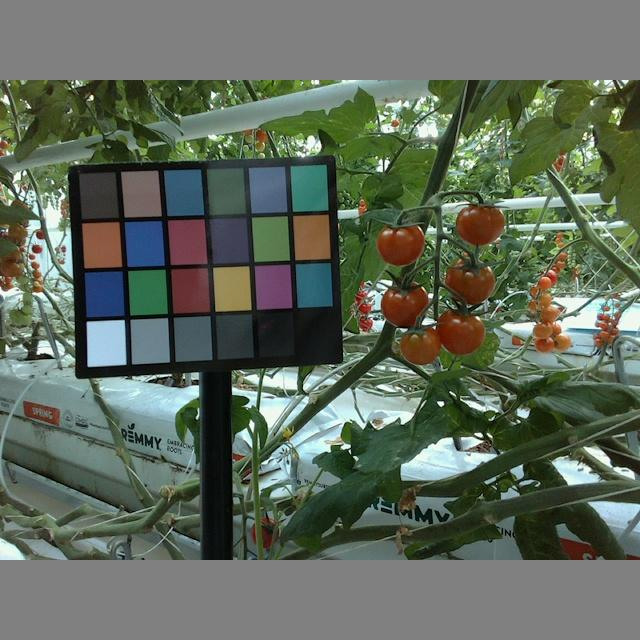pink: (439, 307, 485, 354), (378, 285, 431, 325), (457, 202, 505, 245), (378, 224, 425, 264), (448, 261, 496, 300), (397, 326, 436, 363)
